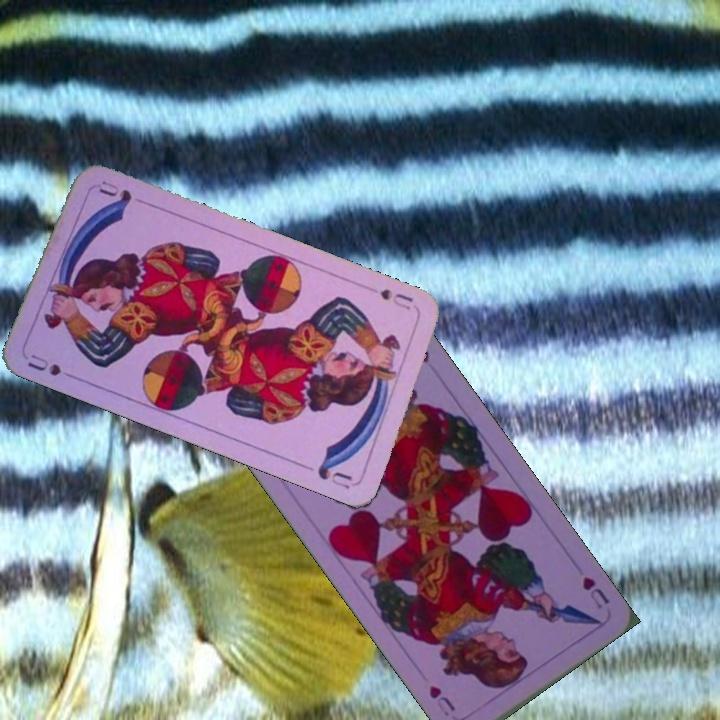HU: (578, 572, 613, 612)
SU: (376, 284, 421, 314), (23, 350, 64, 379)
